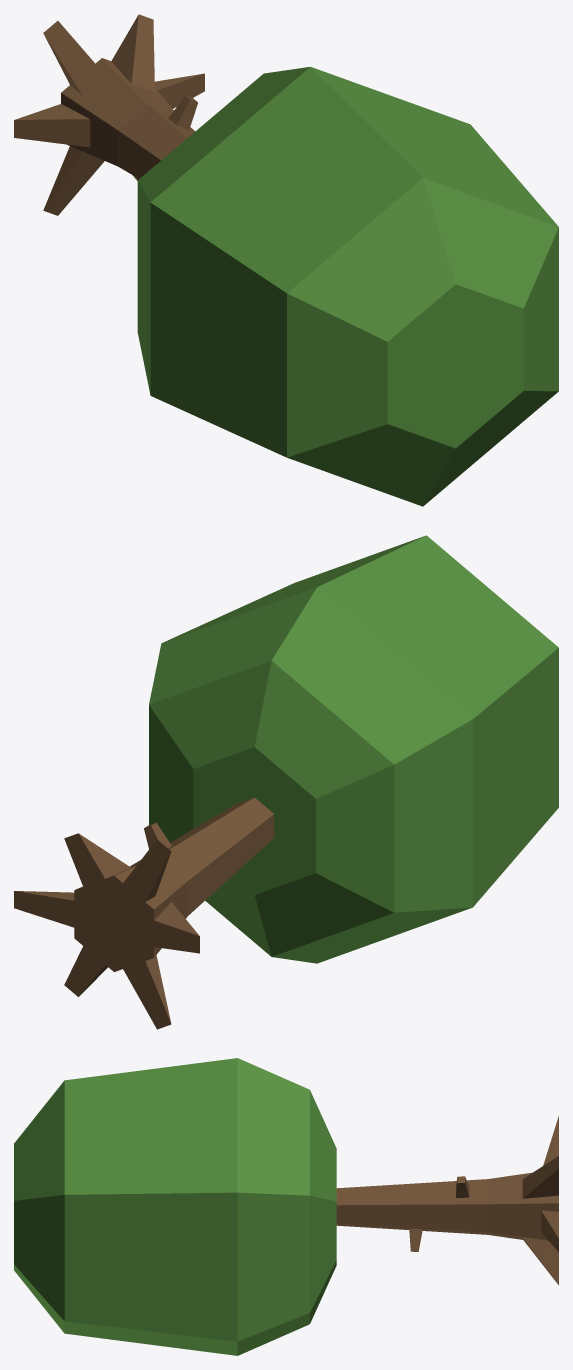
The model's file is tree.obj.
3 renders of one model, top to bottom at view 1: azimuth 30°, elevation 25°; view 2: azimuth 150°, elevation 25°; view 3: azimuth 270°, elevation 25°, orthographic. The views are drawn at different scales.
Bounding box in the file's own units: 3.66 × 4.22 × 7.
